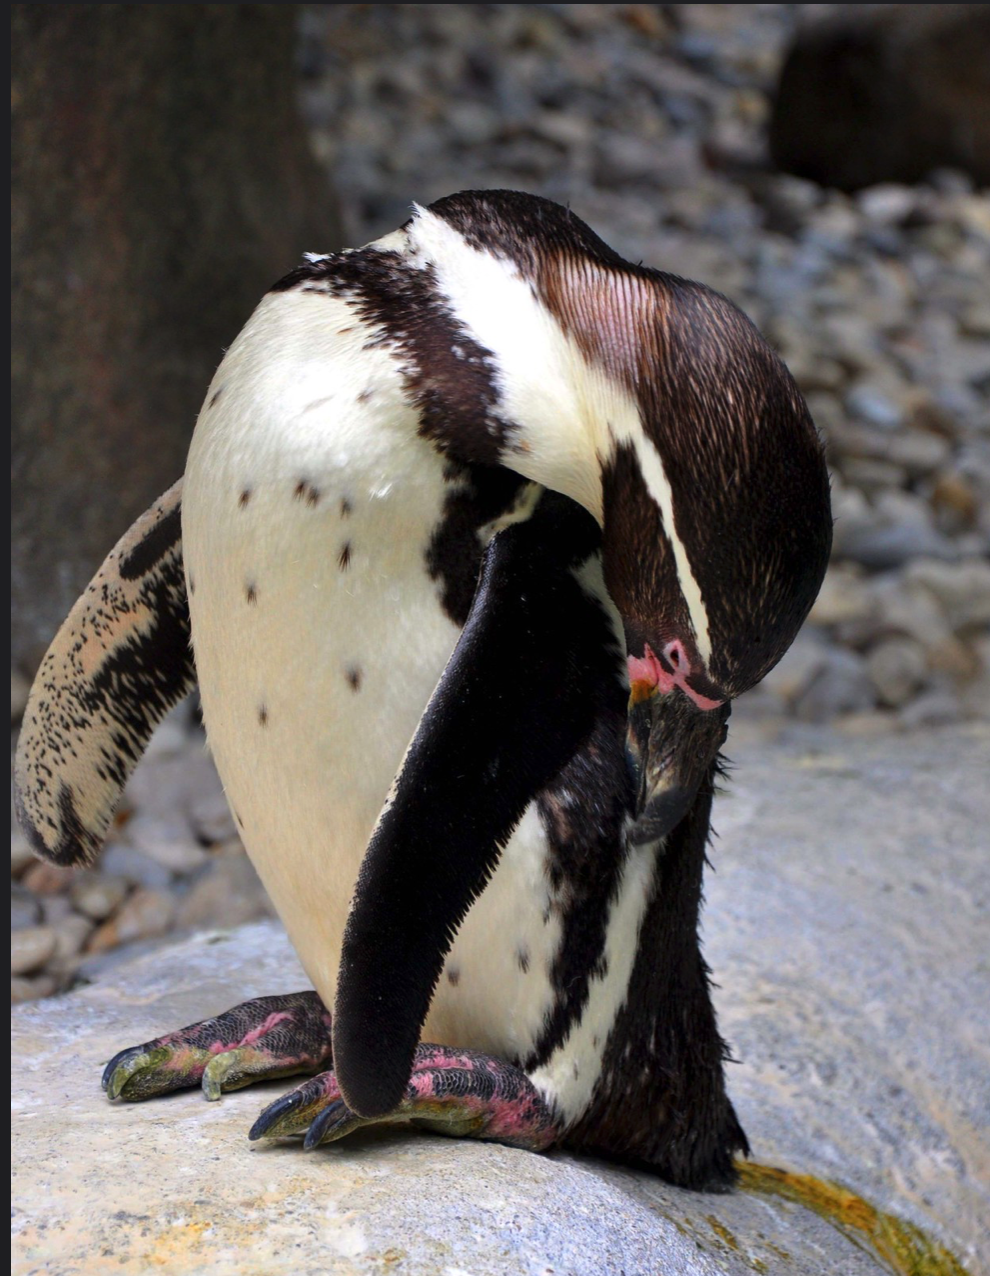penguin: (25, 174, 784, 1213)
